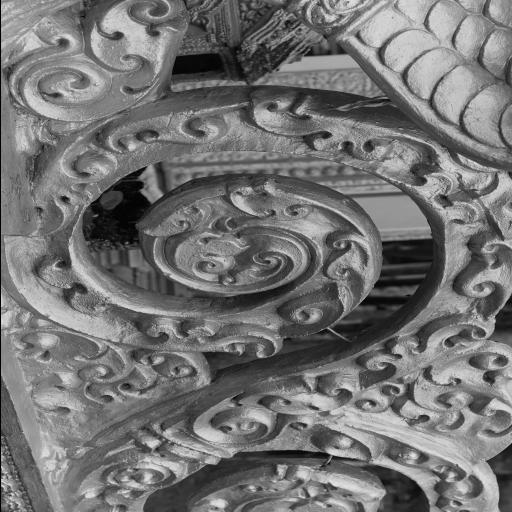la: (0, 80, 512, 376), (18, 353, 512, 512), (3, 0, 202, 133)
ran: (162, 0, 512, 175)
